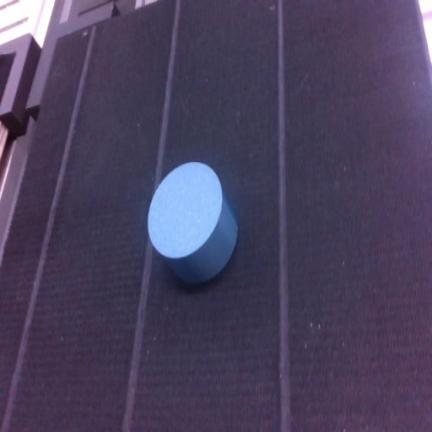cylinder: (148, 162, 237, 284)
